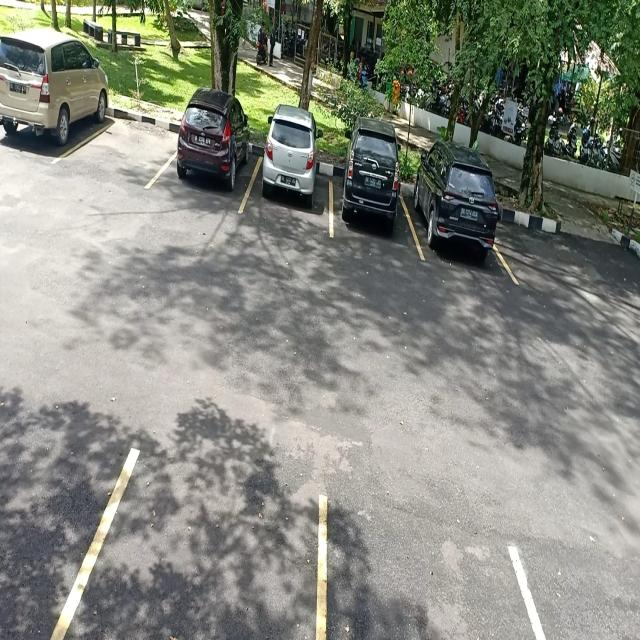empty: (78, 98, 176, 193)
occupied: (0, 58, 109, 163), (412, 158, 504, 267), (168, 115, 256, 209), (256, 130, 334, 226), (330, 149, 412, 240)
